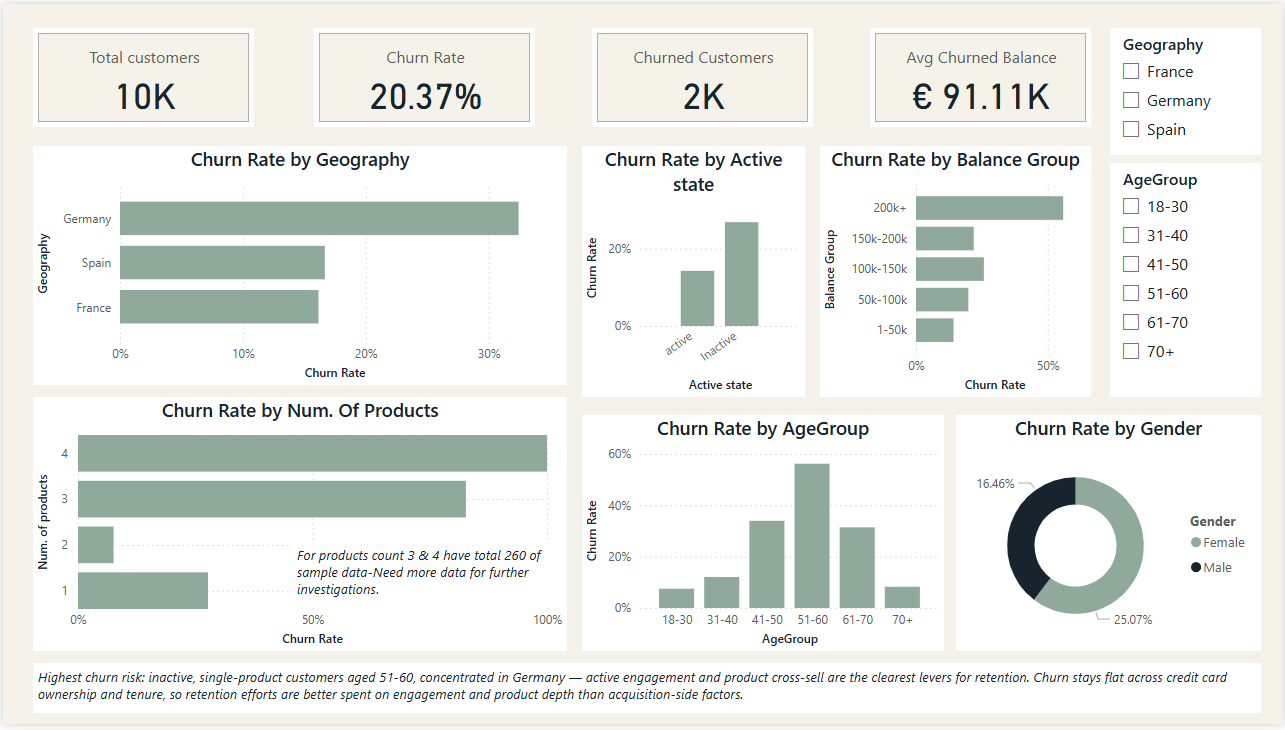

This screenshot's page, from the dashboard's own definition file:
{"tool":"powerbi","page":{"name":"Page 1","canvas":[1280,720],"ordinal":0},"visuals":[{"type":"cardVisual","fields":{"Data":["bank_churn_cleaned.Total customers"]},"box":[30,24,221,99],"z":0},{"type":"barChart","title":"Churn Rate by Num. Of Products","fields":{"Category":["bank_churn_cleaned.NumOfProducts"],"Y":["bank_churn_cleaned.Churn Rate"]},"box":[30,393,534,254],"z":1000},{"type":"barChart","fields":{"Category":["bank_churn_cleaned.Geography"],"Y":["bank_churn_cleaned.Churn Rate"]},"box":[30,142,534,239],"z":2000},{"type":"donutChart","title":"Churn Rate by Gender","fields":{"Y":["bank_churn_cleaned.Churn Rate"],"Category":["bank_churn_cleaned.genHelper"]},"box":[953,411,305,236],"z":3000},{"type":"clusteredColumnChart","fields":{"Category":["bank_churn_cleaned.AgeGroup"],"Y":["bank_churn_cleaned.Churn Rate"]},"box":[579,411,362,236],"z":4000},{"type":"clusteredColumnChart","title":"Churn Rate by Active State","fields":{"Y":["bank_churn_cleaned.Churn Rate"],"Category":["bank_churn_cleaned.actHelper"]},"box":[579,142,223,251],"z":5000},{"type":"slicer","fields":{"Values":["bank_churn_cleaned.Geography"]},"box":[1107,24,151,127],"z":6000},{"type":"slicer","fields":{"Values":["bank_churn_cleaned.AgeGroup"]},"box":[1107,159,151,234],"z":7000},{"type":"barChart","title":"Churn Rate by Balance Group","fields":{"Category":["bank_churn_cleaned.BalanceGroup"],"Y":["bank_churn_cleaned.Churn Rate"]},"box":[817,142,271,251],"z":8000},{"type":"cardVisual","fields":{"Data":["bank_churn_cleaned.Churn Rate"]},"box":[311,24,221,99],"z":9000},{"type":"cardVisual","fields":{"Data":["bank_churn_cleaned.Churned Customers"]},"box":[589,24,221,99],"z":10000},{"type":"cardVisual","fields":{"Data":["bank_churn_cleaned.Average churned customer balnce"]},"box":[867,24,221,99],"z":11000},{"type":"textbox","box":[30,659,1228,50],"z":12000},{"type":"textbox","box":[289,537,262,66],"z":13000}]}

Visuals, with their boxes in screenshot pixels (x1, y1, x2, y2), scaled from the page's 1280x720 canvas onto the 1285x730 screenshot:
cardVisual - bank_churn_cleaned.Total customers: x1=30 y1=24 x2=252 y2=125
"Churn Rate by Num. Of Products" barChart: x1=30 y1=398 x2=566 y2=656
barChart - bank_churn_cleaned.Geography x bank_churn_cleaned.Churn Rate: x1=30 y1=144 x2=566 y2=386
"Churn Rate by Gender" donutChart: x1=957 y1=417 x2=1263 y2=656
clusteredColumnChart - bank_churn_cleaned.AgeGroup x bank_churn_cleaned.Churn Rate: x1=581 y1=417 x2=945 y2=656
"Churn Rate by Active State" clusteredColumnChart: x1=581 y1=144 x2=805 y2=398
slicer - bank_churn_cleaned.Geography: x1=1111 y1=24 x2=1263 y2=153
slicer - bank_churn_cleaned.AgeGroup: x1=1111 y1=161 x2=1263 y2=398
"Churn Rate by Balance Group" barChart: x1=820 y1=144 x2=1092 y2=398
cardVisual - bank_churn_cleaned.Churn Rate: x1=312 y1=24 x2=534 y2=125
cardVisual - bank_churn_cleaned.Churned Customers: x1=591 y1=24 x2=813 y2=125
cardVisual - bank_churn_cleaned.Average churned customer balnce: x1=870 y1=24 x2=1092 y2=125
textbox: x1=30 y1=668 x2=1263 y2=719
textbox: x1=290 y1=544 x2=553 y2=611
